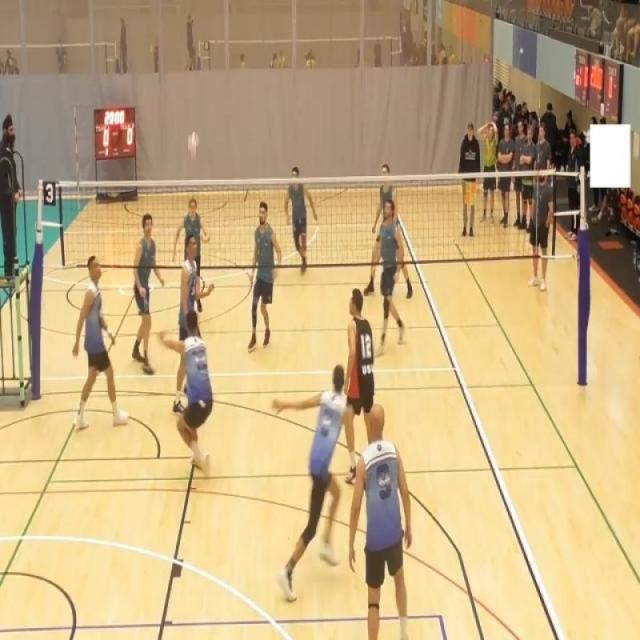volleyball: (187, 130, 200, 162)
